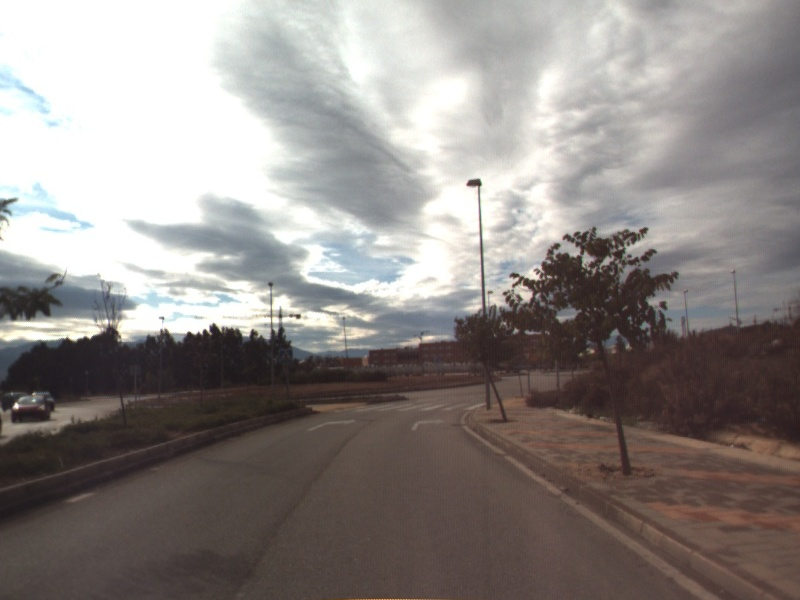RIGHT: (304, 416, 359, 433), (409, 416, 448, 433)
